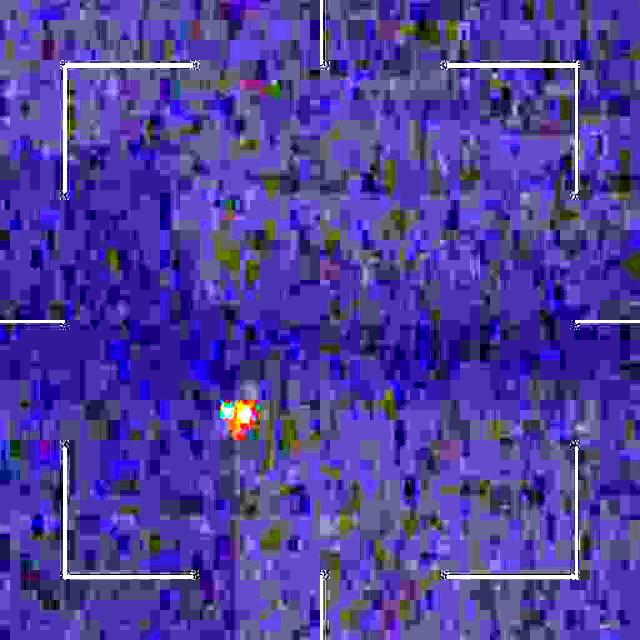bird: (219, 399, 254, 436)
